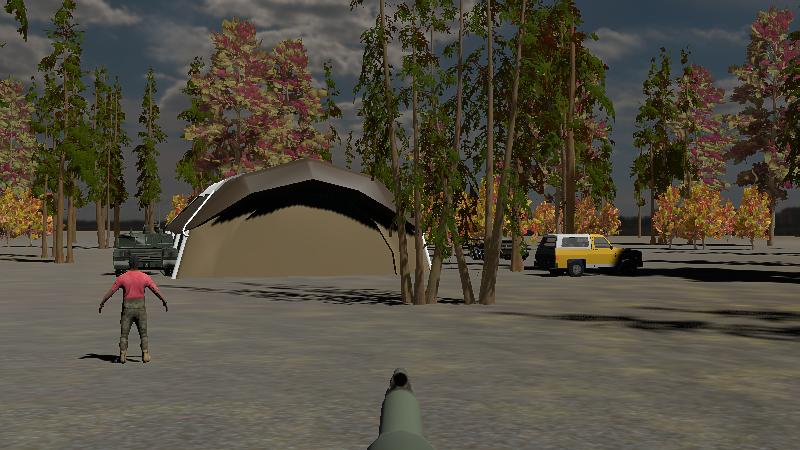Human: (96, 254, 170, 368)
Tank: (463, 231, 530, 264), (463, 232, 530, 264)
car: (532, 232, 646, 279)
